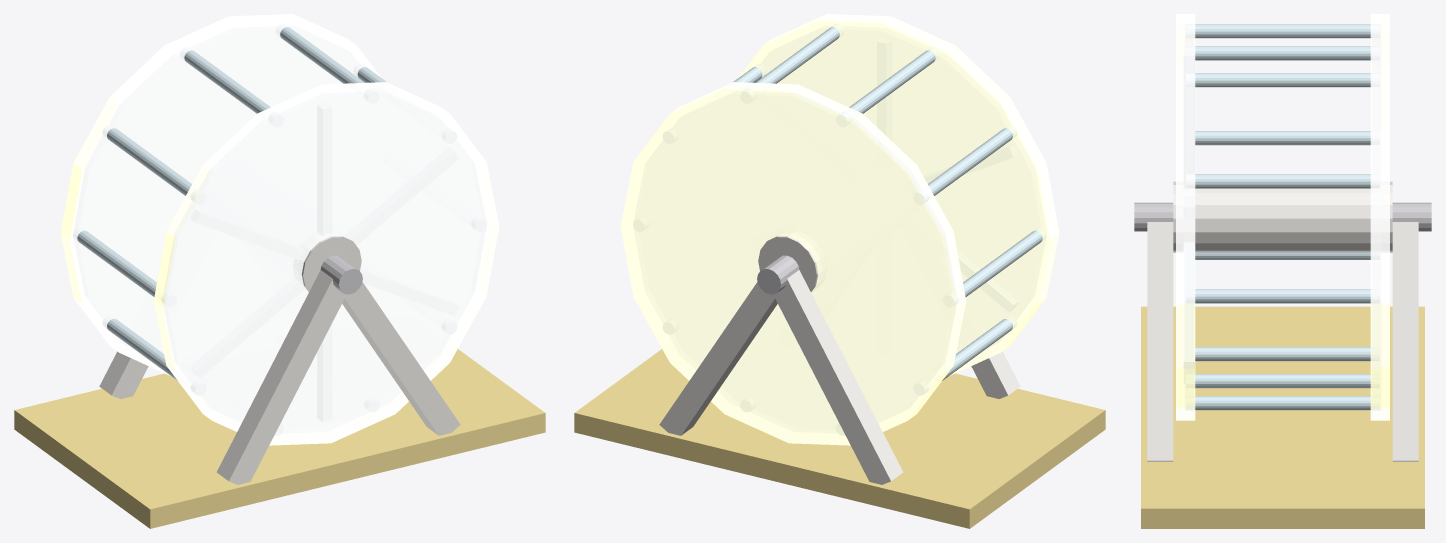
The model's file is PremiumWheel.glb.
3 views of the same model, side by side, from view 1: azimuth 30°, elevation 25°; view 2: azimuth 150°, elevation 25°; view 3: azimuth 270°, elevation 25° (orthographic). The views are drawn at different scales.
Parts seen in each view (by area): view 1: PremiumWheel_5, PremiumWheel_4, PremiumWheel_3, PremiumWheel_2, PremiumWheel_0; view 2: PremiumWheel_5, PremiumWheel_4, PremiumWheel_3, PremiumWheel_2, PremiumWheel_0; view 3: PremiumWheel_4, PremiumWheel_2, PremiumWheel_3, PremiumWheel_5, PremiumWheel_0.
Part boxes in pixels (x1,y1,x2,y2): PremiumWheel_5: [60, 14, 499, 445]; PremiumWheel_4: [14, 349, 545, 528]; PremiumWheel_3: [99, 236, 460, 484]; PremiumWheel_2: [77, 27, 386, 380]; PremiumWheel_0: [320, 255, 362, 294]; PremiumWheel_5: [620, 14, 1059, 445]; PremiumWheel_4: [574, 349, 1105, 528]; PremiumWheel_3: [659, 236, 1020, 484]; PremiumWheel_2: [733, 27, 1042, 380]; PremiumWheel_0: [757, 255, 799, 294]; PremiumWheel_4: [1141, 306, 1424, 528]; PremiumWheel_2: [1195, 24, 1370, 410]; PremiumWheel_3: [1147, 181, 1418, 461]; PremiumWheel_5: [1176, 14, 1389, 420]; PremiumWheel_0: [1134, 202, 1431, 231].
Size of the model in its own units: 7.4 by 6.75 by 4.6.
